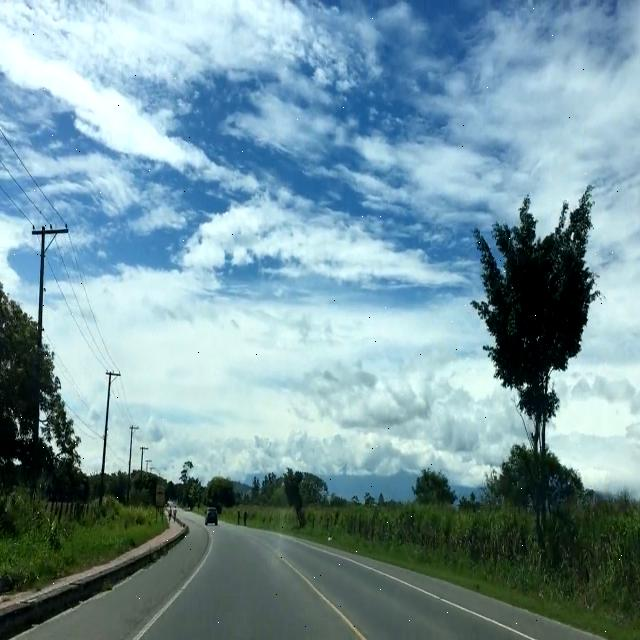lane: (321, 551, 536, 639), (130, 534, 212, 640), (288, 563, 370, 640)
road: (18, 513, 596, 640)
